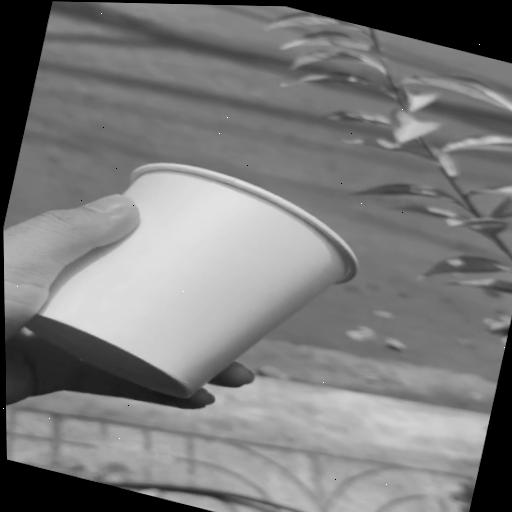Ly_giay: (27, 163, 356, 397)
